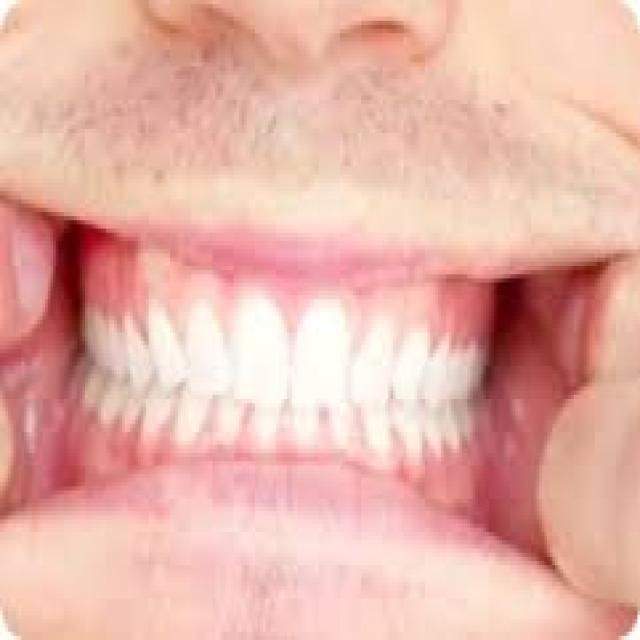tooth: (218, 287, 295, 403), (300, 299, 340, 407), (186, 299, 231, 395), (348, 328, 396, 403), (144, 304, 184, 378), (390, 320, 422, 403), (412, 320, 441, 403), (173, 395, 215, 449), (430, 349, 470, 399), (393, 416, 430, 470), (141, 374, 167, 441), (250, 399, 286, 445), (289, 407, 324, 453), (215, 403, 242, 457), (122, 320, 144, 382), (369, 407, 396, 457), (409, 411, 443, 449), (101, 374, 122, 432), (326, 407, 358, 445), (82, 300, 101, 358), (125, 390, 143, 440), (82, 374, 109, 407), (101, 328, 122, 370), (449, 412, 478, 441), (436, 403, 452, 449), (80, 308, 93, 353), (74, 320, 93, 349), (454, 358, 470, 390), (462, 366, 486, 382)
